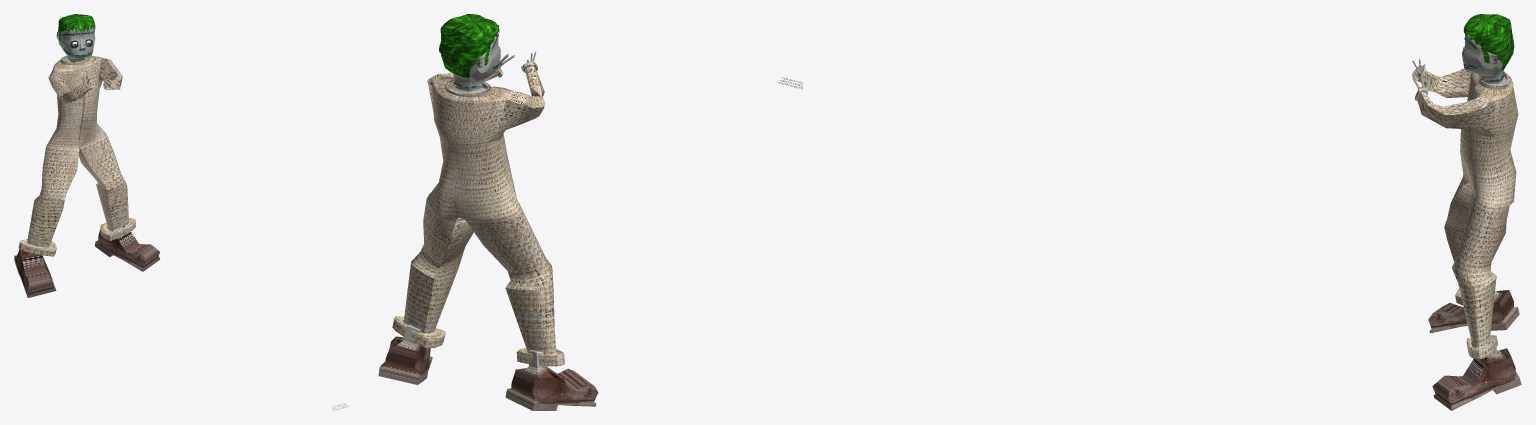
The model's file is VJBT_FRANKITEXTOBJ.obj.
The picture shows the model from 3 angles, left to right: view 1: azimuth 30°, elevation 25°; view 2: azimuth 150°, elevation 25°; view 3: azimuth 270°, elevation 25°; orthographic projection. The views are drawn at different scales.
Visible parts, largest first — view 1: PersonajeFranky; view 2: PersonajeFranky; view 3: PersonajeFranky.
Part boxes in pixels (x1,y1,x2,y2): PersonajeFranky: [14, 14, 160, 297]; PersonajeFranky: [378, 14, 598, 410]; PersonajeFranky: [1412, 14, 1521, 410].
Bounding box in the file's own units: 3.9 × 6.9 × 12.38.
